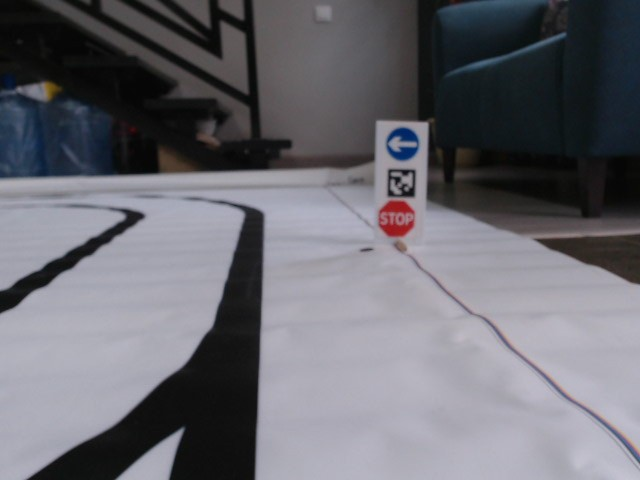Stop: (378, 199, 415, 238)
